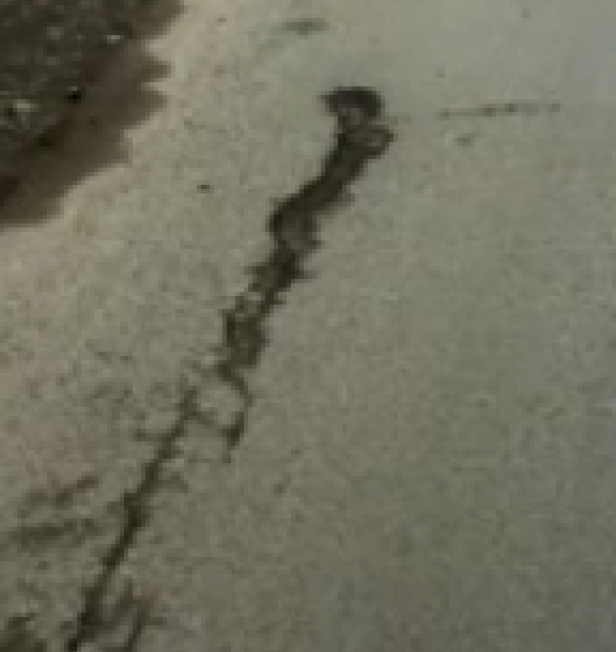Retak Memanjang: (78, 80, 387, 650)
